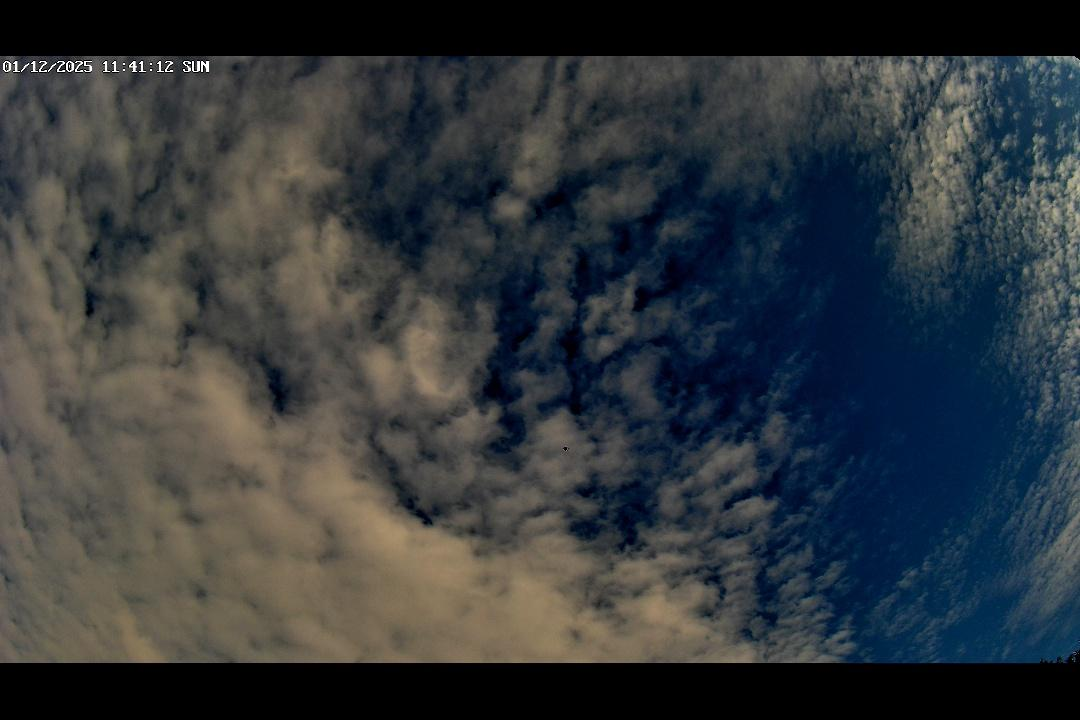WildLife: (557, 441, 573, 452)
